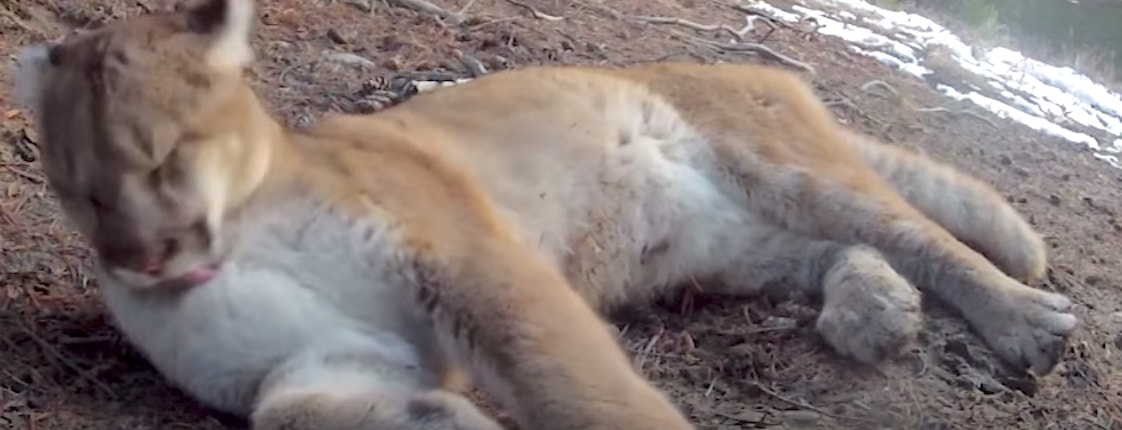Mountain Lion: (9, 9, 1105, 419)
